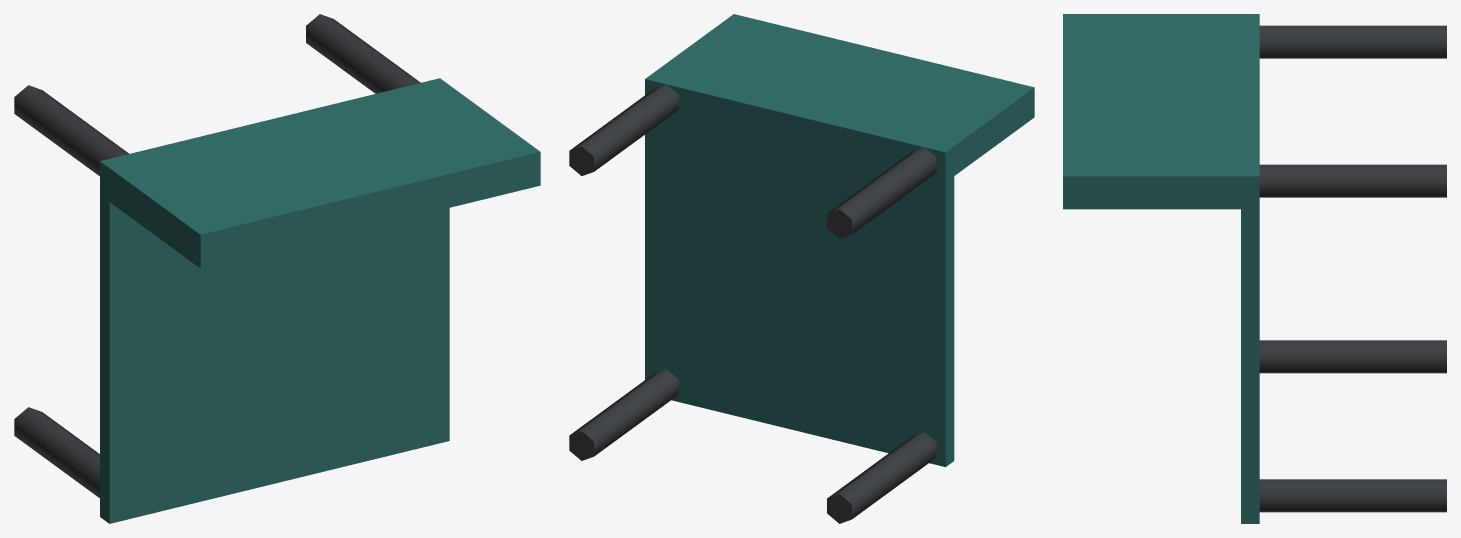
The model's file is chair.glb.
The picture shows the model from 3 angles, left to right: view 1: azimuth 30°, elevation 25°; view 2: azimuth 150°, elevation 25°; view 3: azimuth 270°, elevation 25°; orthographic projection. The views are drawn at different scales.
Bounding box in the file's own units: 1 × 1 × 1.
